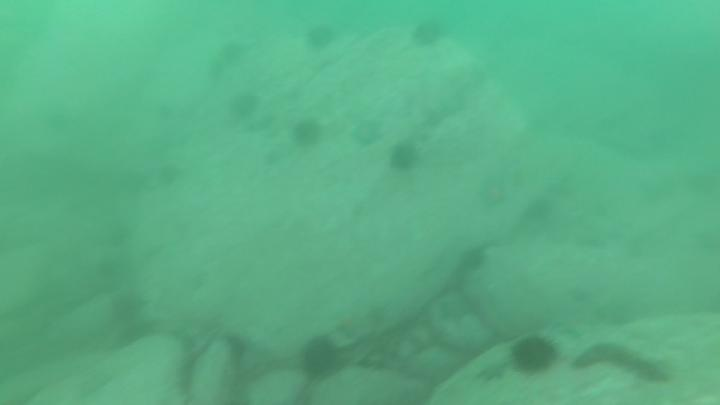echinus: (506, 334, 560, 378), (299, 336, 339, 386), (225, 91, 262, 124), (386, 140, 423, 173), (292, 118, 325, 154), (303, 22, 339, 52), (412, 21, 444, 50), (523, 197, 553, 226), (463, 247, 493, 275), (218, 40, 247, 67)
holothurian: (573, 339, 668, 387)
starfish: (107, 289, 154, 331), (345, 116, 392, 152), (472, 358, 514, 393), (476, 174, 511, 214)
